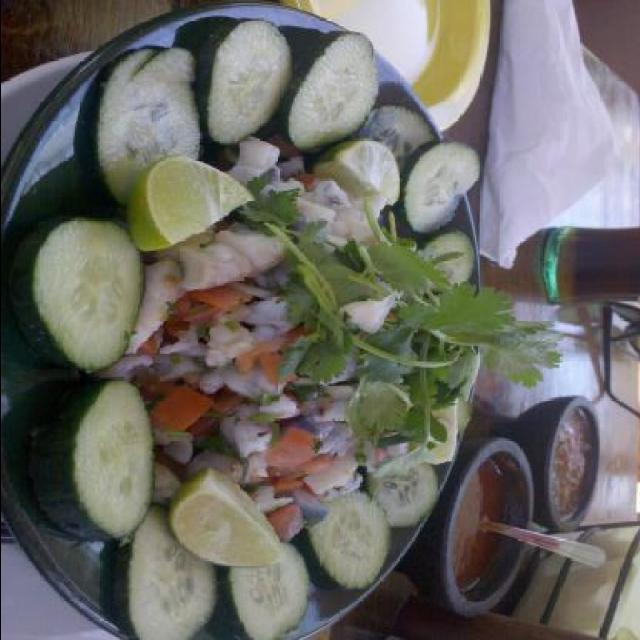Zucchini: (13, 365, 179, 569), (8, 208, 148, 374), (70, 48, 208, 210), (186, 18, 294, 146), (119, 501, 217, 640), (282, 27, 380, 151), (293, 486, 390, 590), (218, 538, 308, 640), (396, 138, 484, 234), (349, 104, 440, 176), (358, 458, 438, 528), (410, 232, 474, 288)
